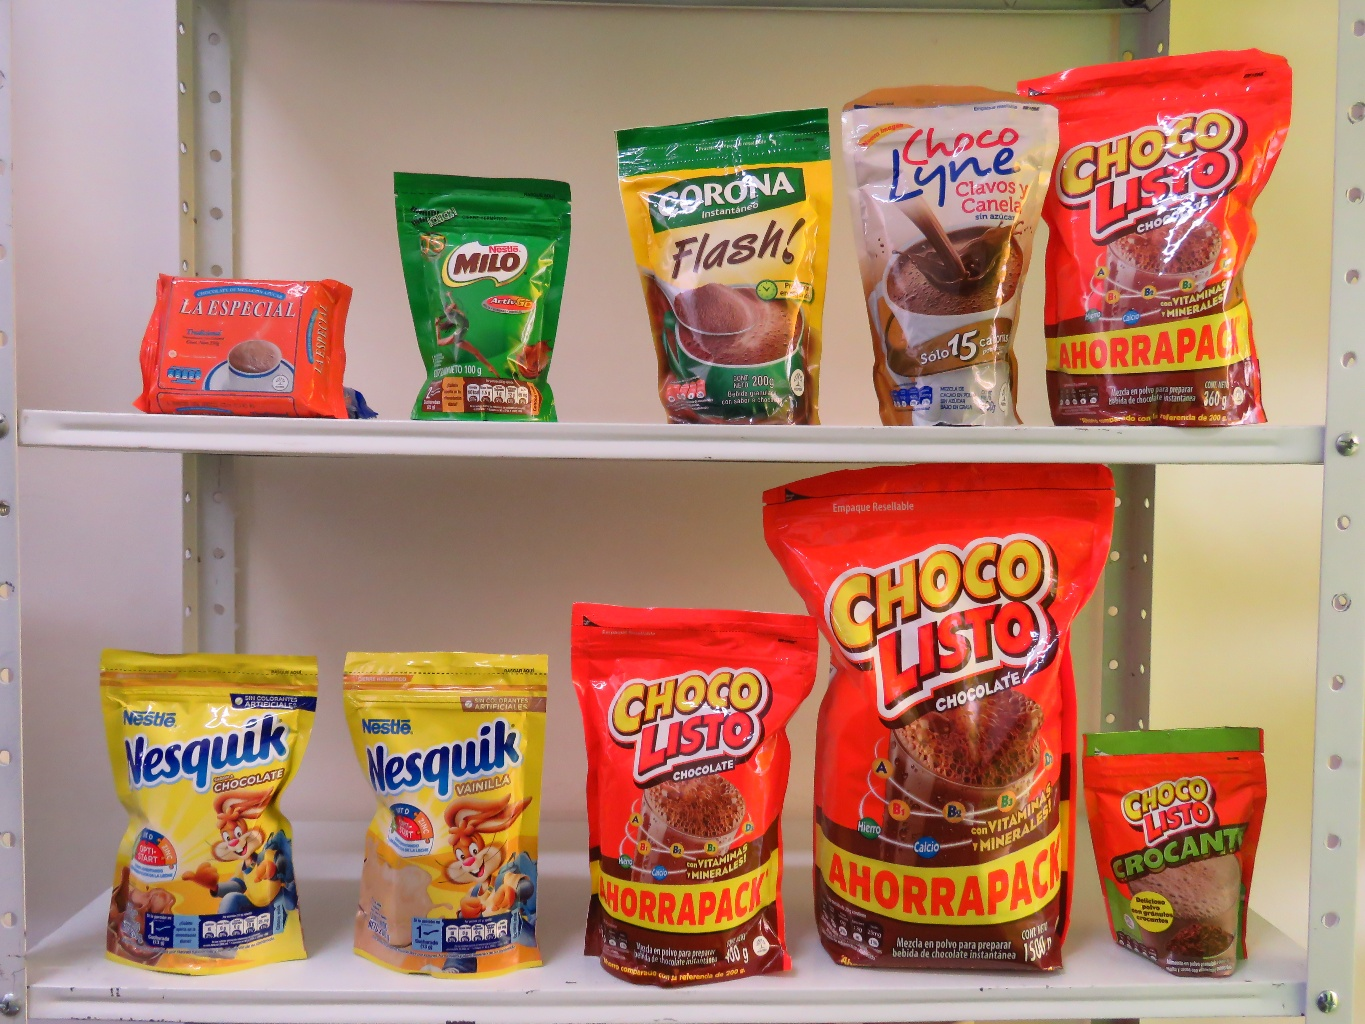COL0170102DYP10000: (1085, 720, 1283, 987)
COL0170103DYP1,500: (767, 460, 1139, 992)
COL0170103DYP36000: (1016, 51, 1308, 435)
COL0170103DYP40000: (557, 594, 823, 984)
COL0170203DYP10000: (379, 167, 593, 428)
COL0170303DYP20000: (85, 643, 331, 970)
COL0170306DYP20000: (331, 639, 580, 978)
